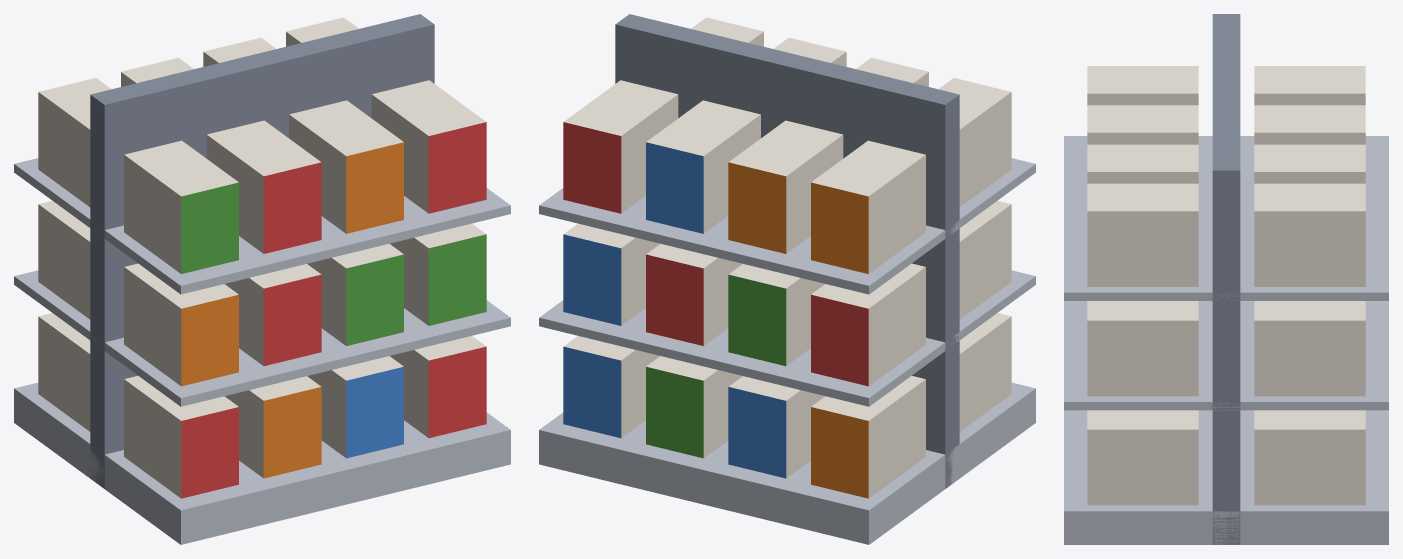
The model's file is shelf-bags.glb.
3 renders of one model, left to right at view 1: azimuth 30°, elevation 25°; view 2: azimuth 150°, elevation 25°; view 3: azimuth 270°, elevation 25°, orthographic. The views are drawn at different scales.
Visible parts, largest first — view 1: shelf-bags; view 2: shelf-bags; view 3: shelf-bags.
Part boxes in pixels (box(x1,y1,x2,y2)): shelf-bags: box(14, 14, 510, 544); shelf-bags: box(539, 14, 1035, 544); shelf-bags: box(1064, 14, 1388, 544).
Bounding box in the file's own units: 0.8 × 0.89 × 0.7.
1 material, 1 textured.
